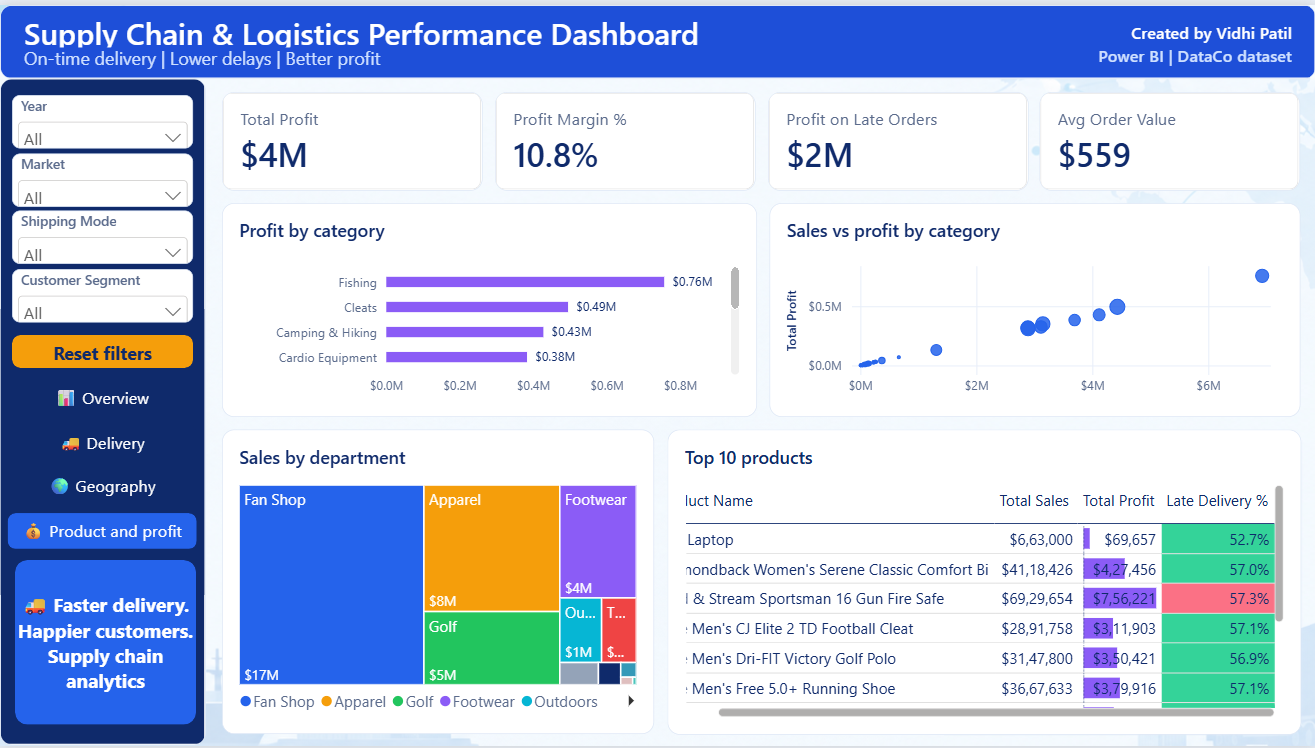

What the dashboard file says about the page in this screenshot:
{"tool":"powerbi","page":{"name":"💰 Product and profit","canvas":[1280,720],"ordinal":3},"visuals":[{"type":"shape","box":[0,0,1280,72],"z":0},{"type":"shape","box":[0,72,200,648],"z":1},{"type":"textbox","title":"Supply Chain & Logistics Performance Dashboard","box":[24,8,760,34],"z":2},{"type":"textbox","title":"On-time delivery | Lower delays | Better profit","box":[24,40,600,24],"z":3},{"type":"textbox","title":"Created by Vidhi Patil","box":[980,16,276,22],"z":4},{"type":"textbox","title":"Power BI | DataCo dataset","box":[980,38,276,22],"z":5},{"type":"slicer","fields":{"Values":["Dim_Date.Year"]},"box":[12,88,176,52],"z":6},{"type":"slicer","fields":{"Values":["Fact_Orders.Market"]},"box":[12,144,176,52],"z":7},{"type":"slicer","fields":{"Values":["Fact_Orders.Shipping Mode"]},"box":[12,200,176,52],"z":8},{"type":"slicer","fields":{"Values":["Fact_Orders.Customer Segment"]},"box":[12,256,176,52],"z":9},{"type":"actionButton","box":[12,320,176,32],"z":10},{"type":"pageNavigator","box":[8,364,184,164],"z":11},{"type":"shape","box":[14.6,539.4,176,160],"z":12},{"type":"cardVisual","fields":{"Data":["_Measures.Total Profit"]},"box":[216,84,253,96],"z":13},{"type":"cardVisual","fields":{"Data":["_Measures.Profit Margin %"]},"box":[481,84,253,96],"z":14},{"type":"cardVisual","fields":{"Data":["_Measures.Profit on Late Orders"]},"box":[746,84,253,96],"z":15},{"type":"cardVisual","fields":{"Data":["_Measures.Avg Order Value"]},"box":[1011,84,253,96],"z":16},{"type":"clusteredBarChart","title":"Profit by category","fields":{"Category":["Fact_Orders.Category Name"],"Y":["_Measures.Total Profit"]},"box":[216,192,520,208],"z":17},{"type":"scatterChart","title":"Sales vs profit by category","fields":{"Category":["Fact_Orders.Category Name"],"Size":["_Measures.Total Orders"],"X":["_Measures.Total Sales"],"Y":["_Measures.Total Profit"]},"box":[748,192,516,208],"z":18},{"type":"treemap","title":"Sales by department","fields":{"Group":["Fact_Orders.Department Name"],"Values":["_Measures.Total Sales"]},"box":[216,412,420,296],"z":19},{"type":"tableEx","title":"Top 10 products","fields":{"Values":["Fact_Orders.Product Name","_Measures.Total Sales","_Measures.Total Profit","_Measures.Late Delivery %"]},"box":[648.1,411.9,616.3,296.8],"z":20}]}

Visuals, with their boxes in screenshot pixels (x1, y1, x2, y2), scaled from the page's 1280x720 canvas onto the 1315x748 screenshot:
shape: BBox(0, 0, 1314, 75)
shape: BBox(0, 75, 205, 747)
"Supply Chain & Logistics Performance Dashboard" textbox: BBox(25, 8, 805, 44)
"On-time delivery | Lower delays | Better profit" textbox: BBox(25, 42, 641, 66)
"Created by Vidhi Patil" textbox: BBox(1007, 17, 1290, 39)
"Power BI | DataCo dataset" textbox: BBox(1007, 39, 1290, 62)
slicer - Dim_Date.Year: BBox(12, 91, 193, 145)
slicer - Fact_Orders.Market: BBox(12, 150, 193, 204)
slicer - Fact_Orders.Shipping Mode: BBox(12, 208, 193, 262)
slicer - Fact_Orders.Customer Segment: BBox(12, 266, 193, 320)
actionButton: BBox(12, 332, 193, 366)
pageNavigator: BBox(8, 378, 197, 549)
shape: BBox(15, 560, 196, 727)
cardVisual - _Measures.Total Profit: BBox(222, 87, 482, 187)
cardVisual - _Measures.Profit Margin %: BBox(494, 87, 754, 187)
cardVisual - _Measures.Profit on Late Orders: BBox(766, 87, 1026, 187)
cardVisual - _Measures.Avg Order Value: BBox(1039, 87, 1299, 187)
"Profit by category" clusteredBarChart: BBox(222, 199, 756, 416)
"Sales vs profit by category" scatterChart: BBox(768, 199, 1299, 416)
"Sales by department" treemap: BBox(222, 428, 653, 736)
"Top 10 products" tableEx: BBox(666, 428, 1299, 736)
